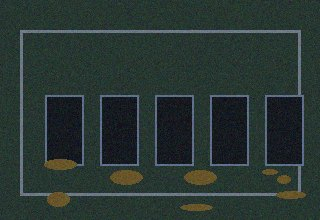

What the dashboard file says about the page in this screenshot:
{"tool":"tableau","page":{"name":"CampusLens Campus Health","canvas":[1000,1000],"units":"permille","ordinal":0},"visuals":[{"type":"worksheet","title":"Issue mix","mark":"Automatic","cols":["complaint_id"],"box":[0,0,500,500]},{"type":"worksheet","title":"Facility hotspots","mark":"Bar","cols":["complaint_id"],"box":[500,0,500,500]}]}

Visuals, with their boxes on the dashboard's canvas, which has no fixed pixel size, in thousandths of its width and height (x1, y1, x2, y2). These are canvas units, not pixel positions in the 320x220 screenshot, which may show the page scaled, cropped or inside an application window:
"Issue mix" worksheet: BBox(0, 0, 500, 500)
"Facility hotspots" worksheet (Bar marks): BBox(500, 0, 1000, 500)
